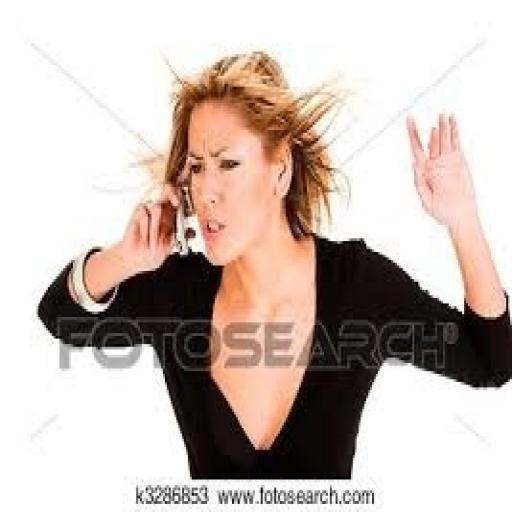calling: (35, 49, 510, 479)
